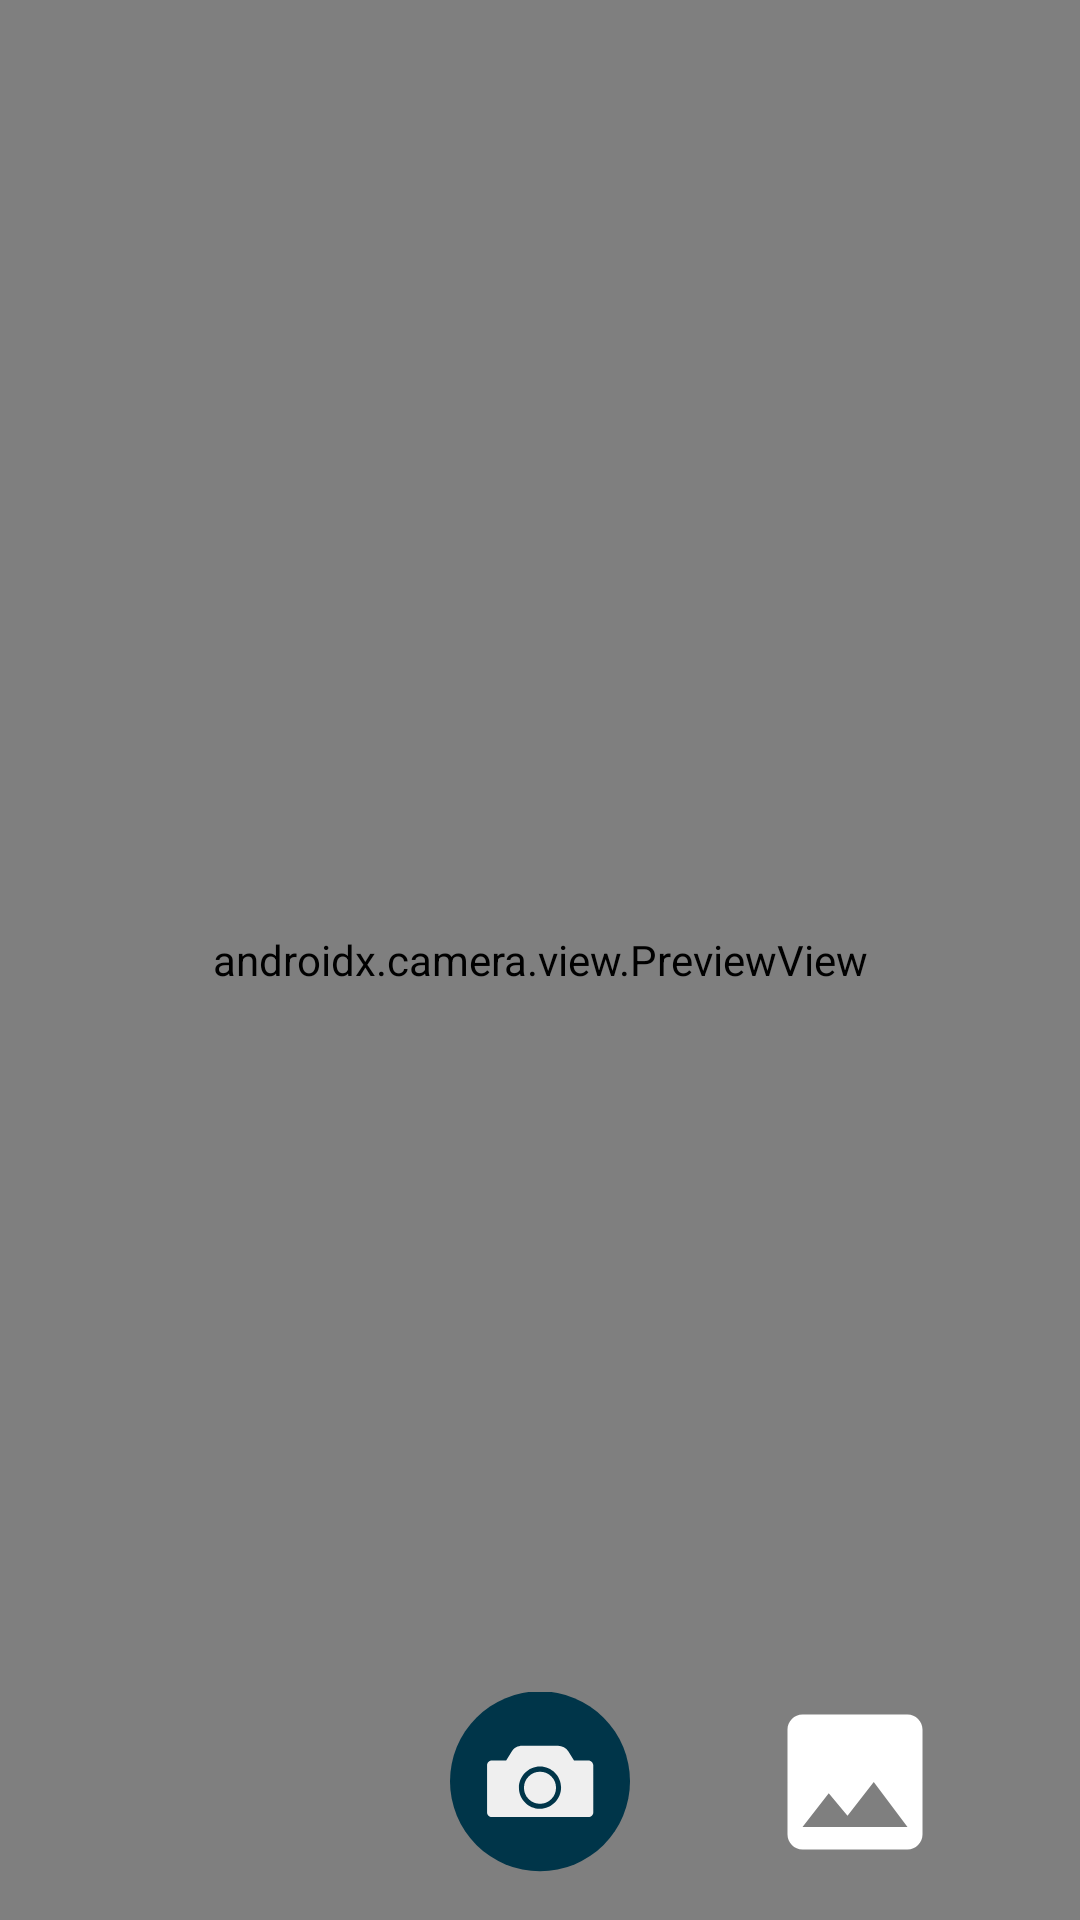

Point at icon controls on the screen. Image size 1080w x 1920h, points as (x,y).
capture: (540,1782)
